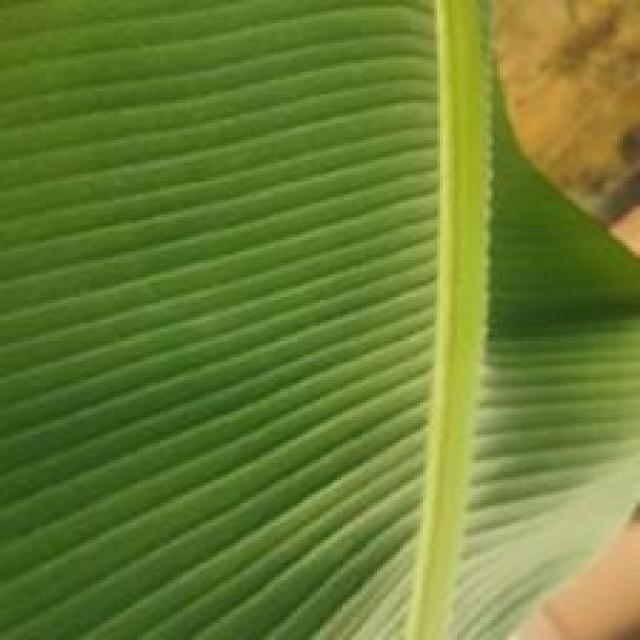Black_leaf_spot: (1, 0, 632, 640)
